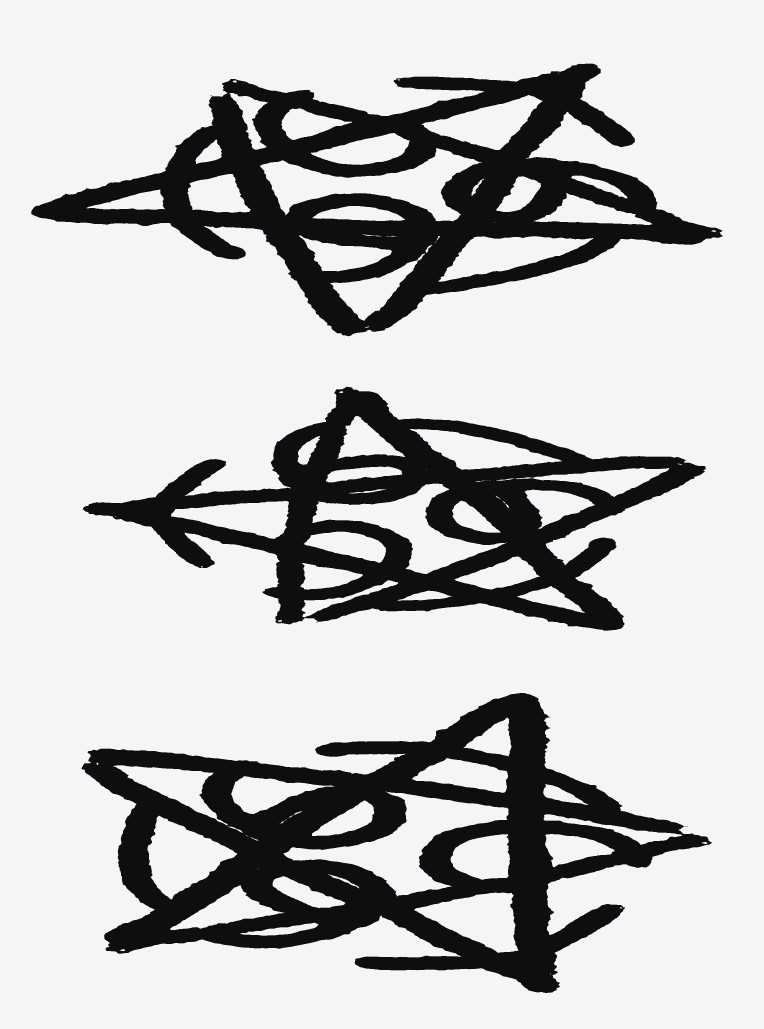
The model's file is RitualSigns.fbx.
3 renders of one model, top to bottom at view 1: azimuth 30°, elevation 25°; view 2: azimuth 150°, elevation 25°; view 3: azimuth 270°, elevation 25°, orthographic. The views are drawn at different scales.
Visible parts, largest first — view 1: RitualSign01, RitualSign02; view 2: RitualSign01, RitualSign02; view 3: RitualSign01, RitualSign02.
Boxes of the visible parts, box(x1,y1,x2,y2) form: RitualSign01: box(31, 63, 722, 336); RitualSign02: box(160, 76, 657, 295); RitualSign01: box(83, 386, 705, 630); RitualSign02: box(145, 418, 623, 611); RitualSign01: box(81, 693, 711, 992); RitualSign02: box(117, 741, 652, 970).
Bounding box in the file's own units: 149 × 0 × 139.
